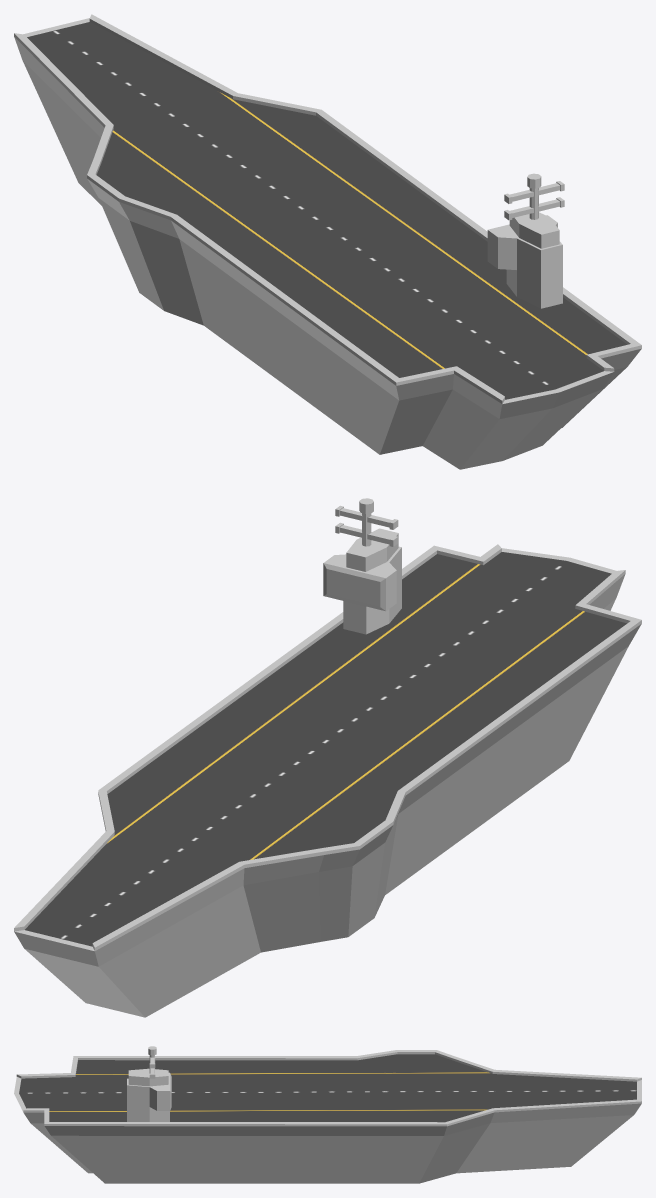
The model's file is AircraftCarrier.fbx.
3 renders of one model, top to bottom at view 1: azimuth 30°, elevation 25°; view 2: azimuth 150°, elevation 25°; view 3: azimuth 270°, elevation 25°, orthographic. The views are drawn at different scales.
Visible parts, largest first — view 1: Deck, AircraftCarrier; view 2: Deck, AircraftCarrier; view 3: AircraftCarrier, Deck.
Part boxes in pixels (x1=…): Deck: x1=27, y1=22, x2=627, y2=399; AircraftCarrier: x1=14, y1=14, x2=641, y2=469; Deck: x1=25, y1=552, x2=626, y2=946; AircraftCarrier: x1=14, y1=498, x2=641, y2=1017; AircraftCarrier: x1=14, y1=1046, x2=641, y2=1183; Deck: x1=19, y1=1054, x2=636, y2=1122.
Bounding box in the file's own units: 1843 × 1568 × 6440.
Materials: 2 (1 with a texture image).
